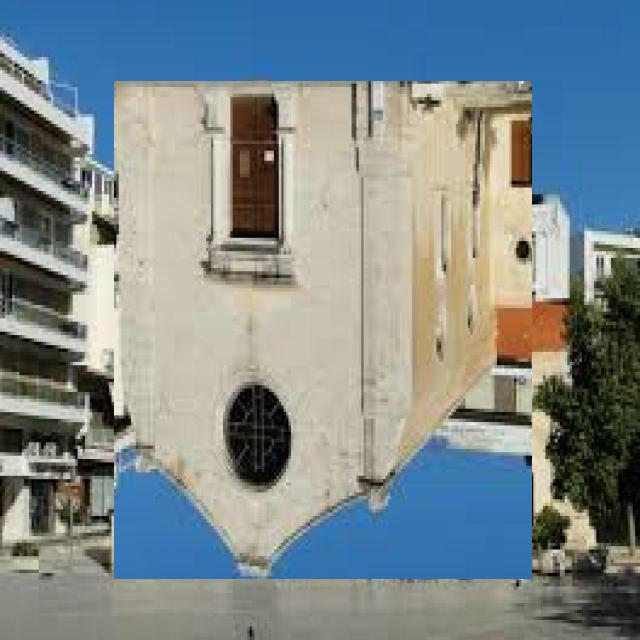Agia Aikaterini: (115, 82, 533, 580)
